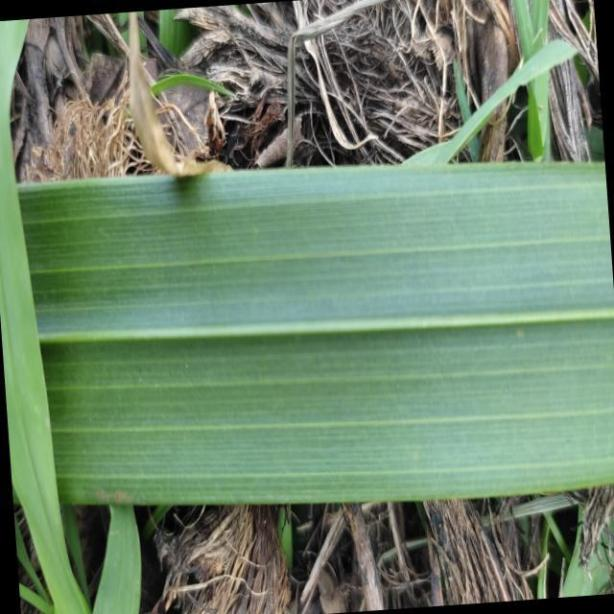Healthy: (7, 163, 614, 506)
